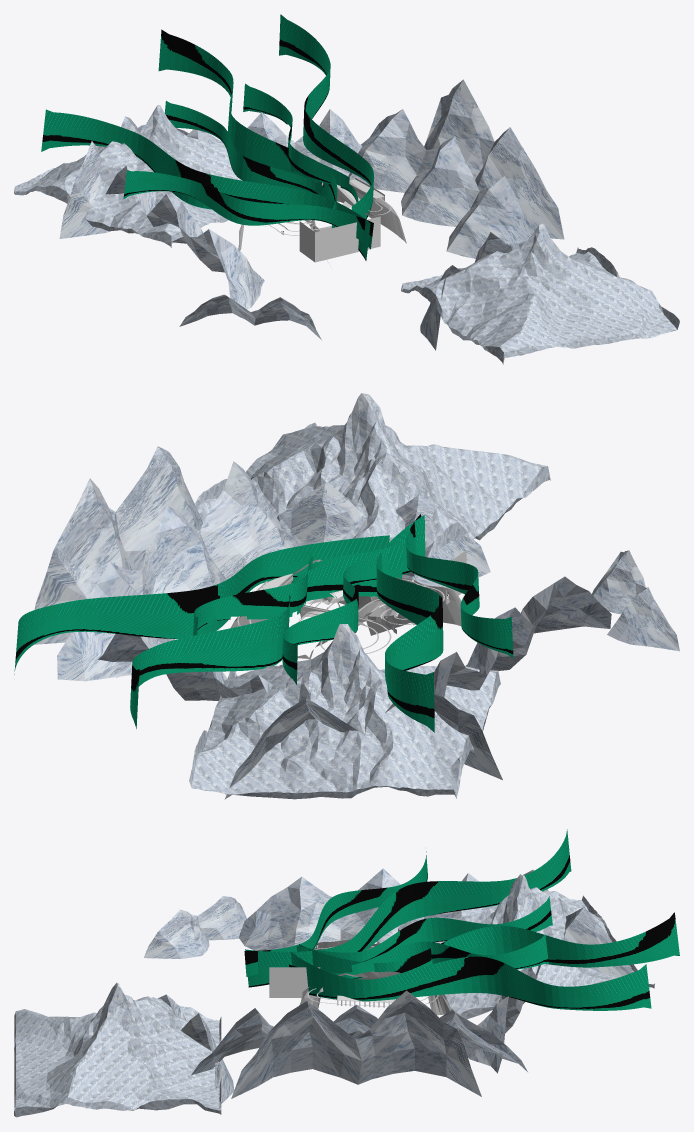
The model's file is track.glb.
The picture shows the model from 3 angles, top to bottom: view 1: azimuth 30°, elevation 25°; view 2: azimuth 150°, elevation 25°; view 3: azimuth 270°, elevation 25°; orthographic projection. The views are drawn at different scales.
Visible parts, largest first — view 1: mesh_8, mesh_21, mesh_24, mesh_12; view 2: mesh_8, mesh_21, mesh_12; view 3: mesh_8, mesh_21, mesh_24, mesh_12.
Part boxes in pixels (x1,y1,x2,y2): mesh_8: [14, 79, 679, 364]; mesh_21: [41, 14, 373, 260]; mesh_24: [299, 216, 380, 262]; mesh_12: [238, 181, 406, 267]; mesh_8: [34, 393, 679, 799]; mesh_21: [14, 514, 513, 732]; mesh_12: [230, 559, 461, 659]; mesh_8: [14, 868, 654, 1117]; mesh_21: [244, 829, 679, 1010]; mesh_24: [269, 947, 333, 997]; mesh_12: [300, 939, 451, 1013].
Size of the model in its own units: 643 by 208 by 944.
5 materials, 5 textured.
